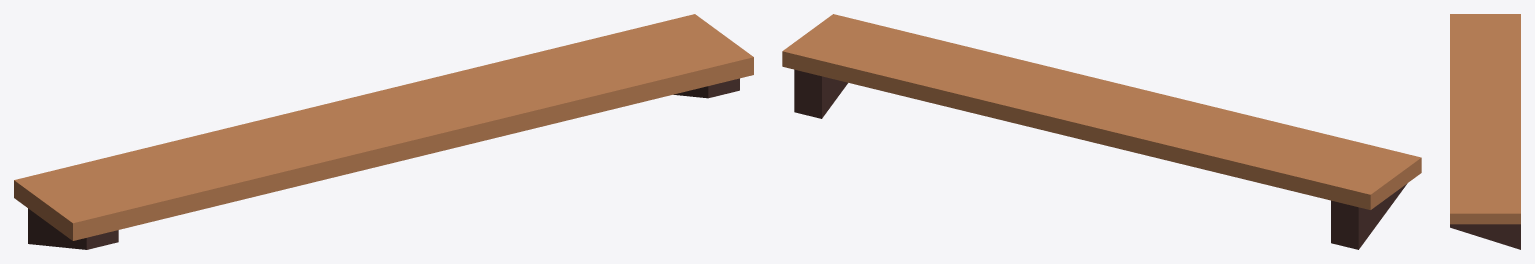
File: Prop_KitchenShelf_03.fbx
3 renders of one model, left to right at view 1: azimuth 30°, elevation 25°; view 2: azimuth 150°, elevation 25°; view 3: azimuth 270°, elevation 25°, orthographic. The views are drawn at different scales.
Parts seen in each view (by area): view 1: Prop_KitchenShelf_03; view 2: Prop_KitchenShelf_03; view 3: Prop_KitchenShelf_03.
Part boxes in pixels (x1,y1,x2,y2): Prop_KitchenShelf_03: [14, 14, 753, 249]; Prop_KitchenShelf_03: [782, 14, 1421, 249]; Prop_KitchenShelf_03: [1450, 14, 1520, 249].
Bounding box in the file's own units: 200 × 18.86 × 30.
